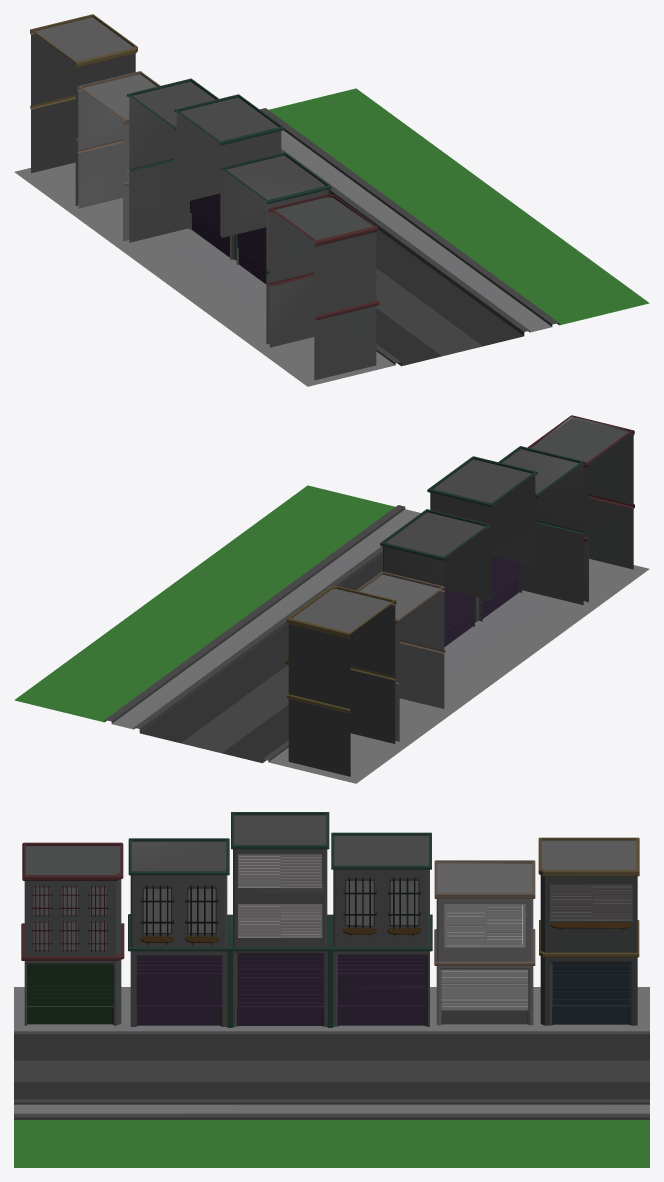
The model's file is Tile_Rua_2.fbx.
3 views of the same model, one above another, from view 1: azimuth 30°, elevation 25°; view 2: azimuth 150°, elevation 25°; view 3: azimuth 270°, elevation 25° (orthographic). The views are drawn at different scales.
Visible parts, largest first — view 1: Tile_Rua_2; view 2: Tile_Rua_2; view 3: Tile_Rua_2.
Boxes of the visible parts, x1,y1,x2,y2 form: Tile_Rua_2: (14,14,649,386); Tile_Rua_2: (14,415,649,783); Tile_Rua_2: (14,812,649,1167).
Bounding box in the file's own units: 1209 × 574 × 1797.
